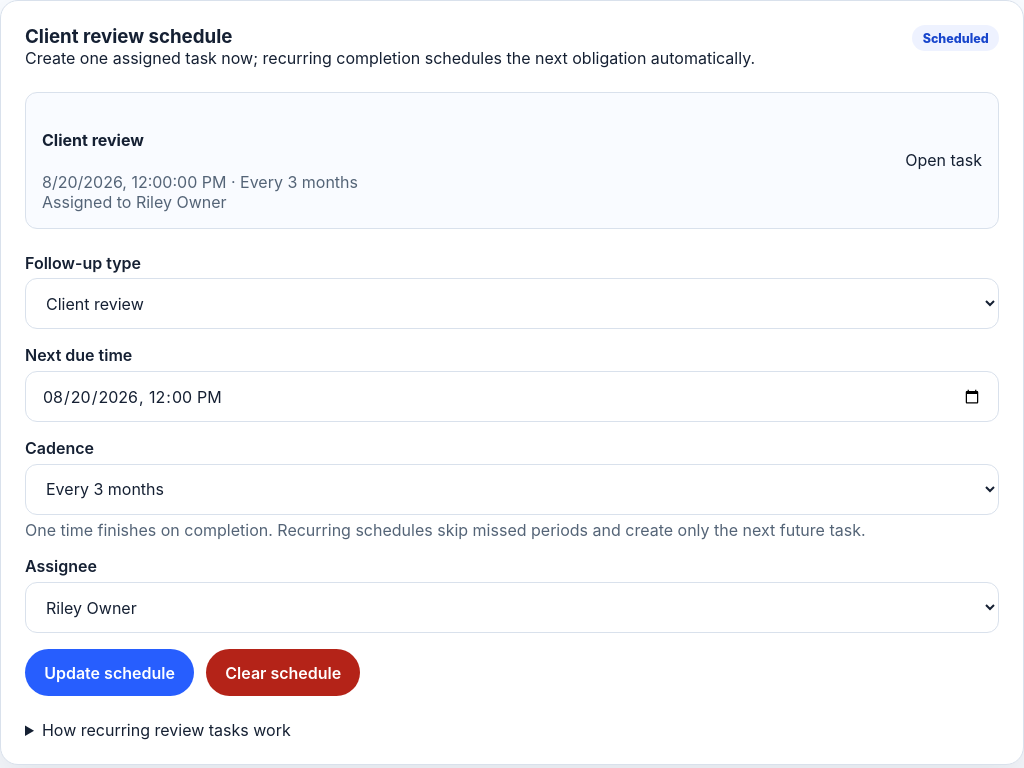
Test: client review schedule › lets a writer clear the schedule and archives its open generated task contract
The width and height of the screenshot is (1024, 768).
Click the button "Clear schedule". click: (283, 673)
box: [206, 649, 360, 696]
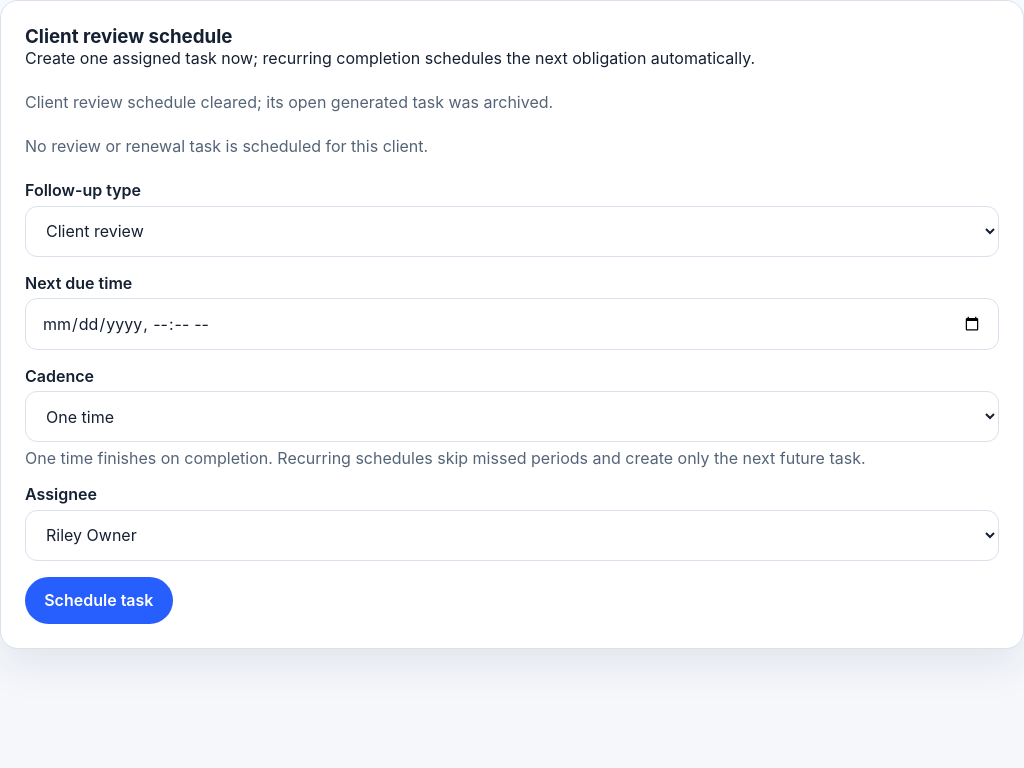
Result: the text "Client review schedule cleared; its open generated task was archived." is shown at [25, 92, 553, 112]
Result: the link "Open task" is gone
